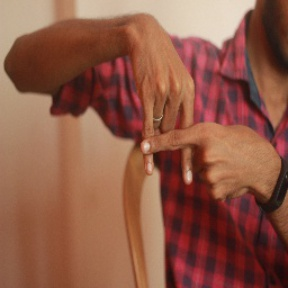H: (104, 82, 226, 195)
